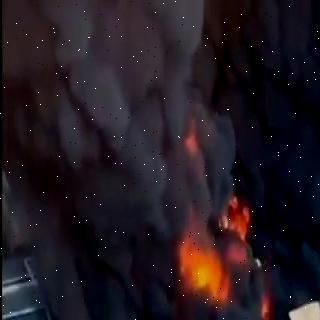smoke: (4, 3, 320, 185), (12, 199, 177, 320)
